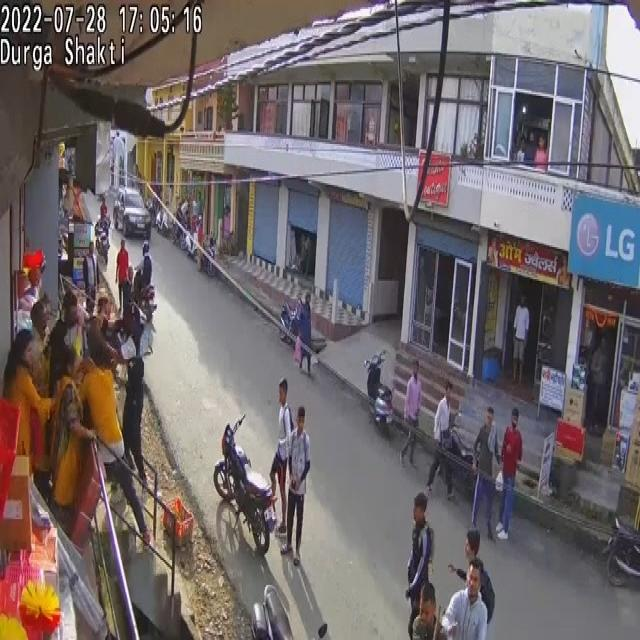fight: (2, 206, 156, 553), (84, 311, 146, 504), (3, 332, 56, 504), (48, 355, 96, 537), (47, 294, 84, 400), (27, 299, 56, 389)
non-fight: (444, 530, 495, 629), (282, 402, 311, 561), (404, 491, 434, 638), (470, 406, 502, 536), (269, 379, 295, 532), (426, 390, 458, 498), (497, 408, 523, 538), (400, 362, 422, 468), (512, 294, 530, 384), (296, 293, 312, 375), (289, 430, 310, 491), (115, 239, 131, 316), (82, 241, 99, 306), (136, 243, 153, 300), (434, 395, 452, 442)
